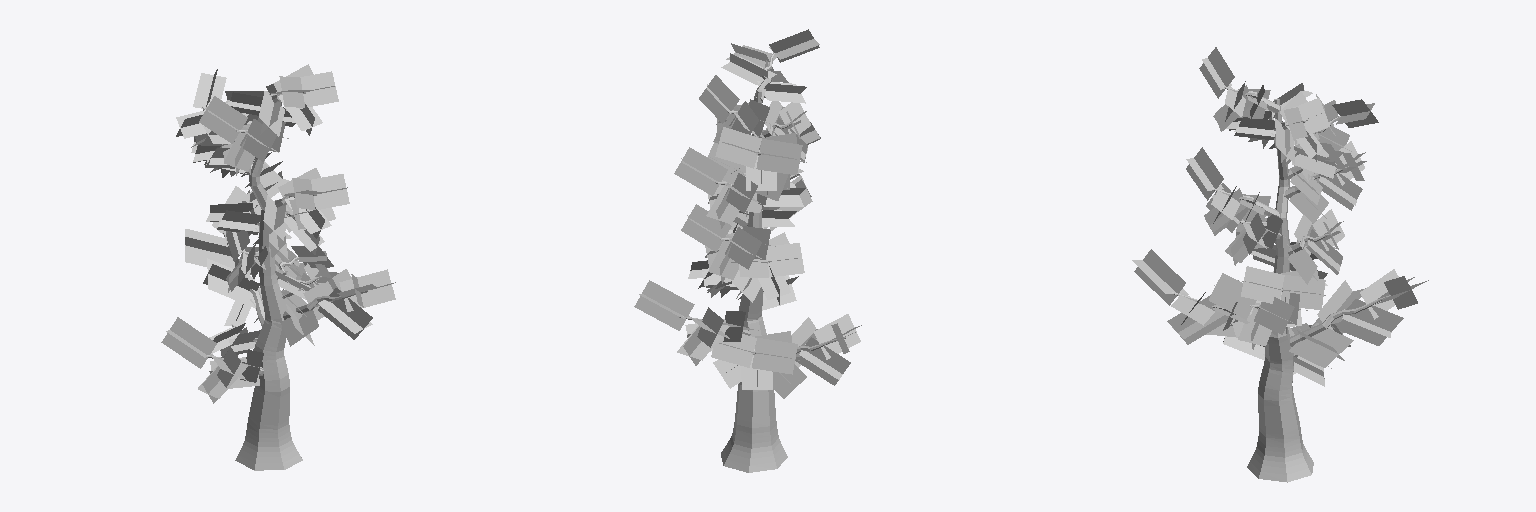
File: TreeSmall.obj
3 renders of one model, left to right at view 1: azimuth 30°, elevation 25°; view 2: azimuth 150°, elevation 25°; view 3: azimuth 270°, elevation 25°, orthographic.
Visible parts, largest first — view 1: TreeSmall; view 2: TreeSmall; view 3: TreeSmall.
Part boxes in pixels (x1,y1,x2,y2): TreeSmall: (161, 64, 395, 470); TreeSmall: (634, 29, 861, 472); TreeSmall: (1132, 47, 1428, 482).
Bounding box in the file's own units: 4.44 × 9.63 × 6.35.